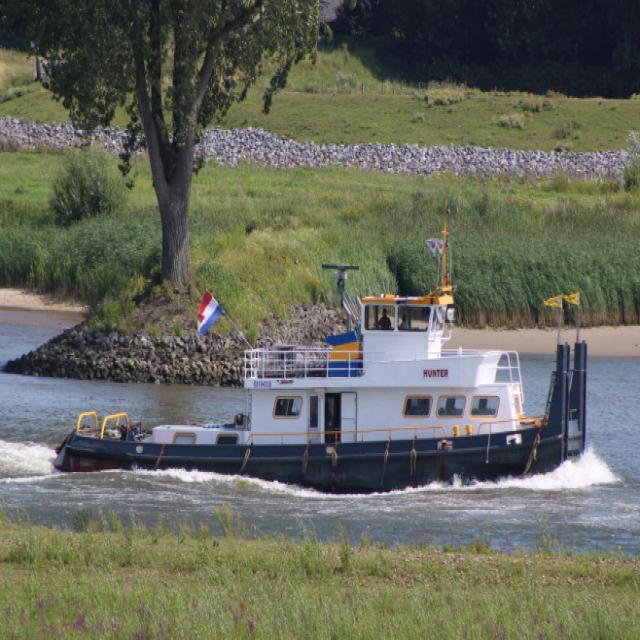tugboat: (51, 260, 592, 502)
